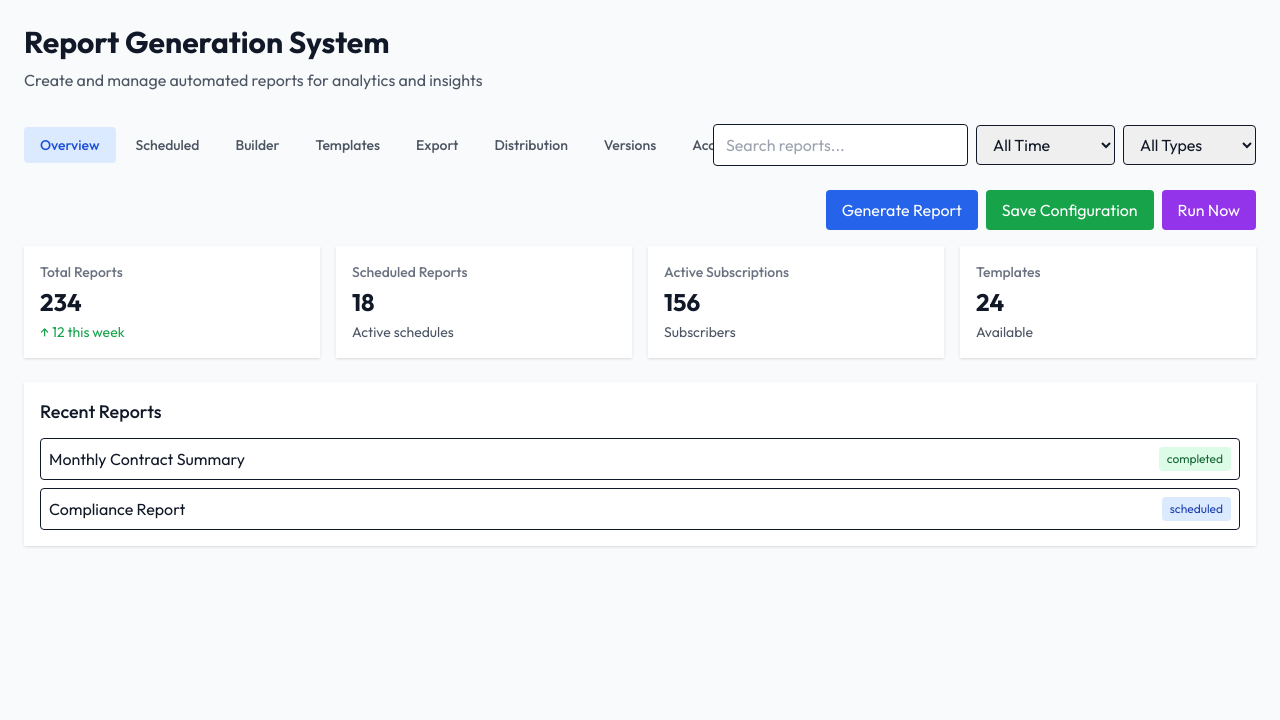
Test case: ReportGenerationSystem › Custom Report Builder › should display report builder interface
Click the tab "Builder".
click(257, 145)  # box [219,127,295,163]
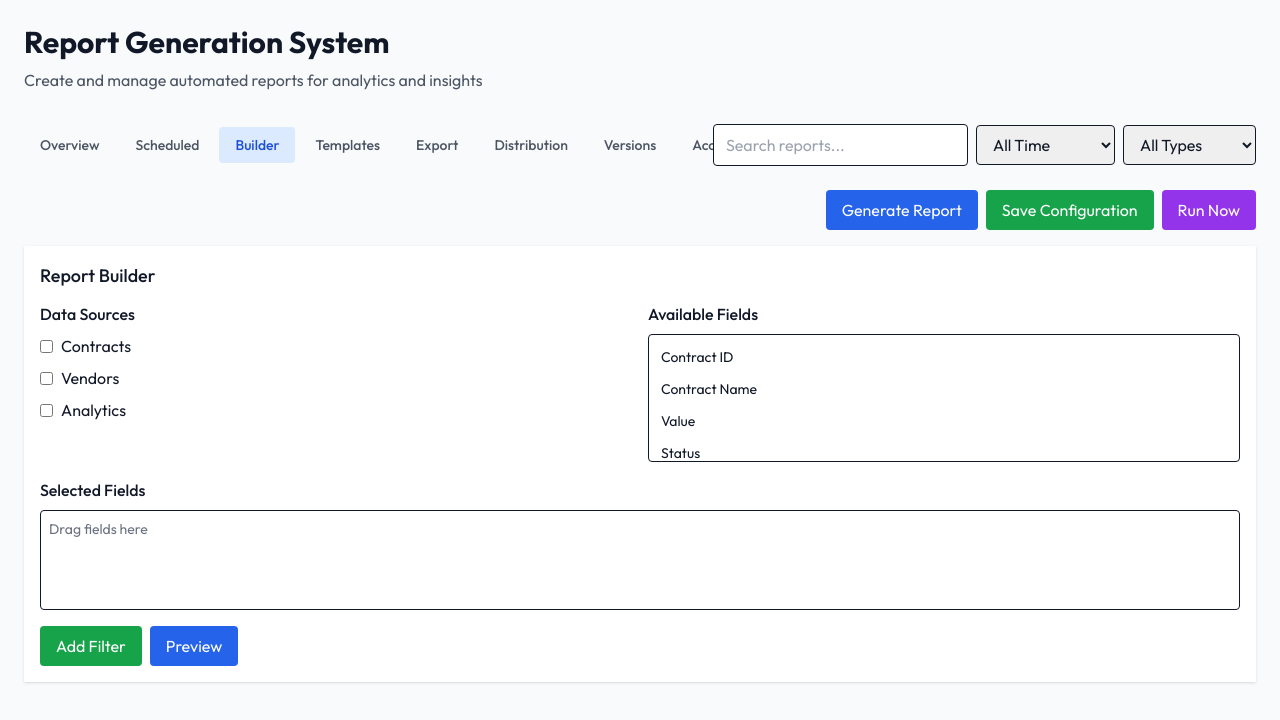
Expected: the heading "Report Builder" is shown, [40,264,155,287]
Expected: the element with test id "report-builder" is shown, [40,302,1240,666]
